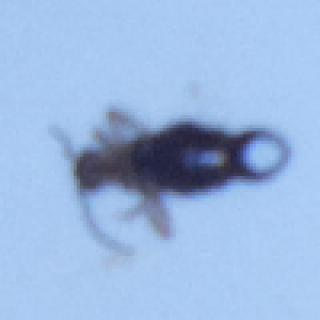earwig: (37, 91, 294, 252)
